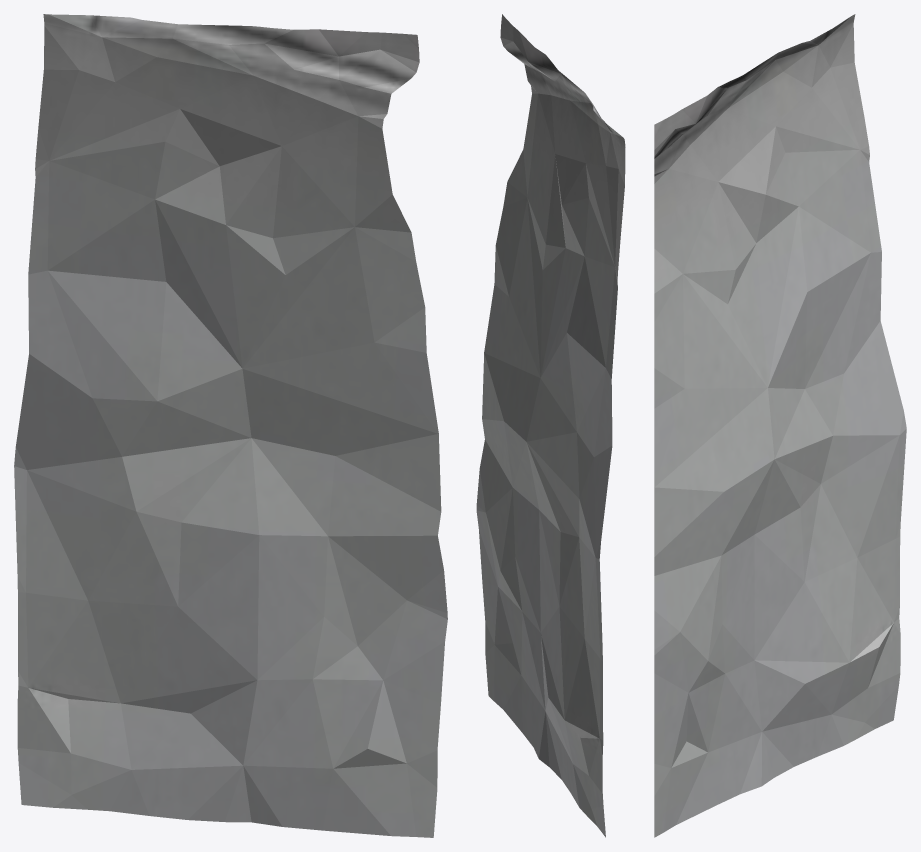
3 views of the same model, side by side, from view 1: azimuth 30°, elevation 25°; view 2: azimuth 150°, elevation 25°; view 3: azimuth 270°, elevation 25° (orthographic). The views are drawn at different scales.
Bounding box in the file's own units: 0.3143 × 0.8374 × 0.2714.
1 material, 1 textured.
